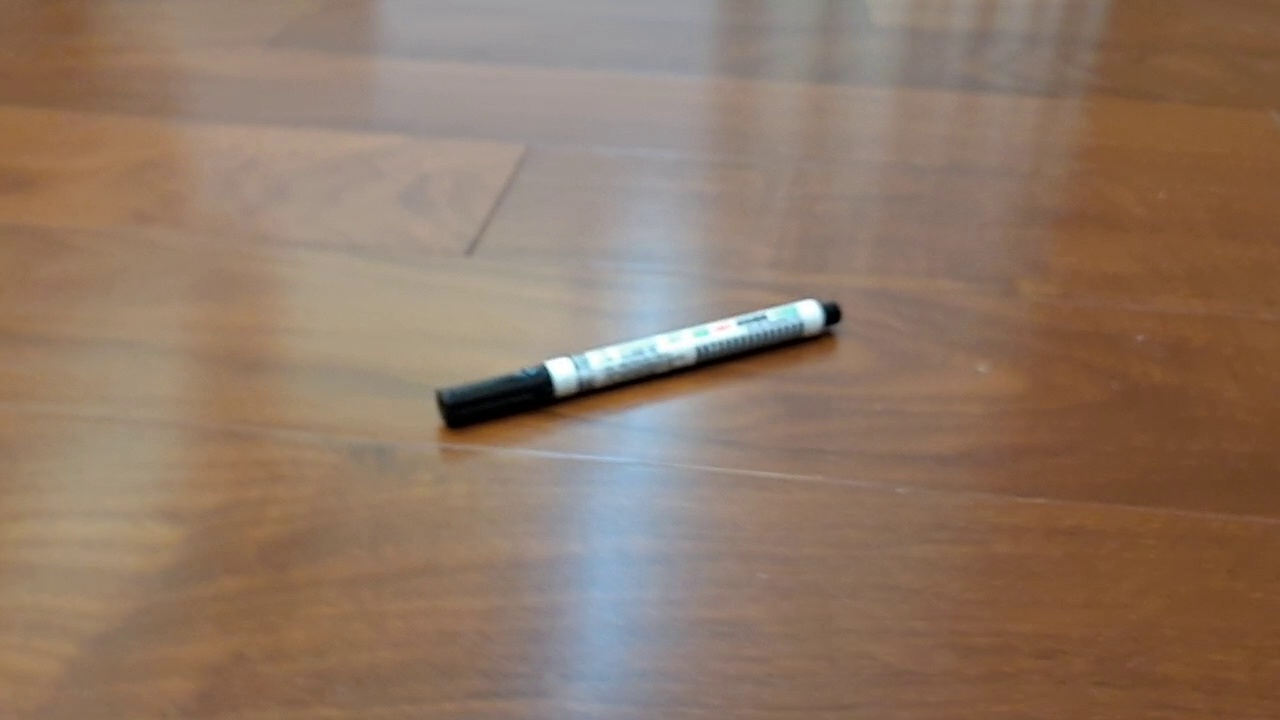pen: (436, 298, 842, 430)
